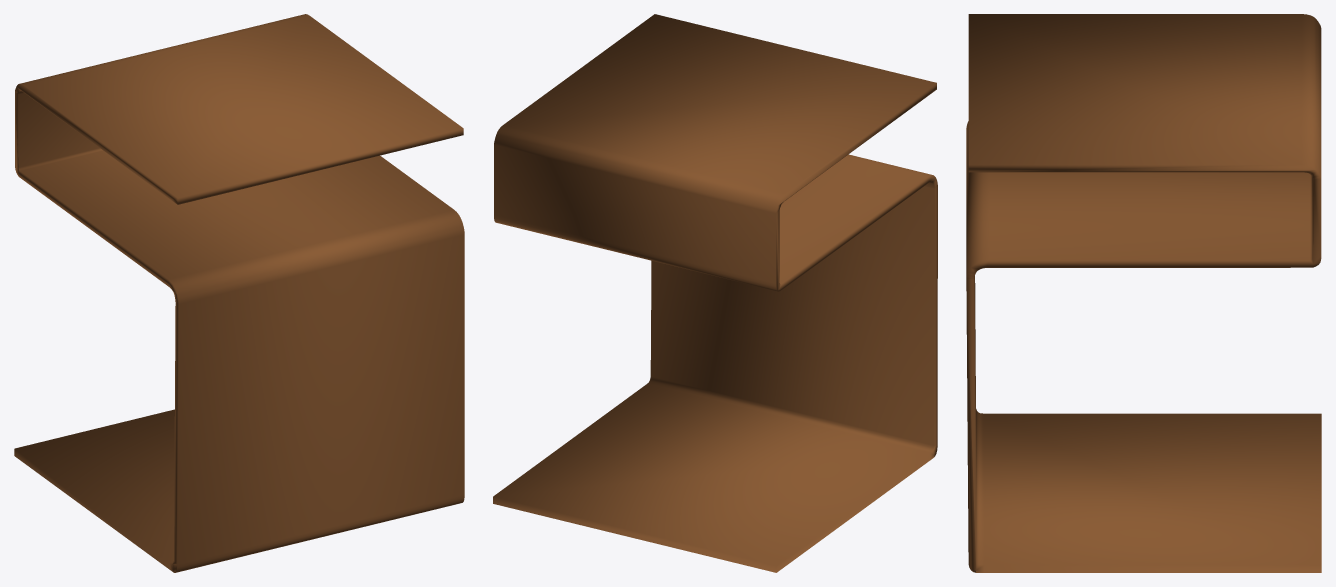
File: ND-0794__Saura_mesa9.glb
3 views of the same model, side by side, from view 1: azimuth 30°, elevation 25°; view 2: azimuth 150°, elevation 25°; view 3: azimuth 270°, elevation 25° (orthographic). The views are drawn at different scales.
Parts seen in each view (by area): view 1: Cube.002; view 2: Cube.002; view 3: Cube.002.
Part boxes in pixels (x1=…): Cube.002: x1=14, y1=14, x2=464, y2=572; Cube.002: x1=493, y1=14, x2=937, y2=572; Cube.002: x1=966, y1=14, x2=1321, y2=572.
Bounding box in the file's own units: 1.62 × 2.03 × 1.6.
